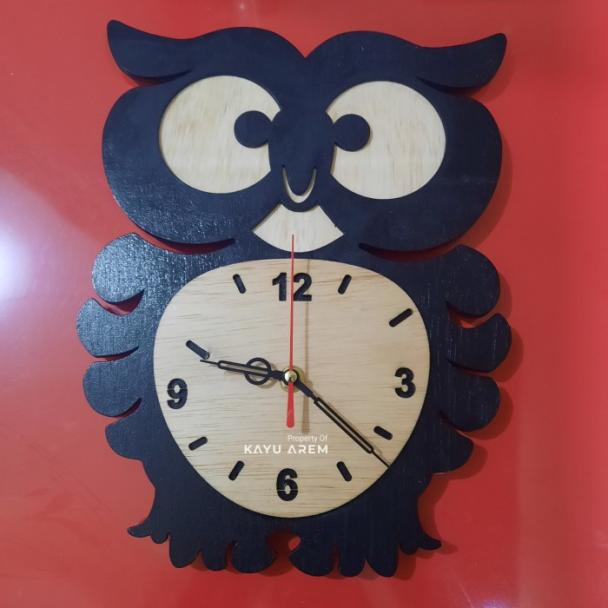Jam: (135, 237, 428, 530)
